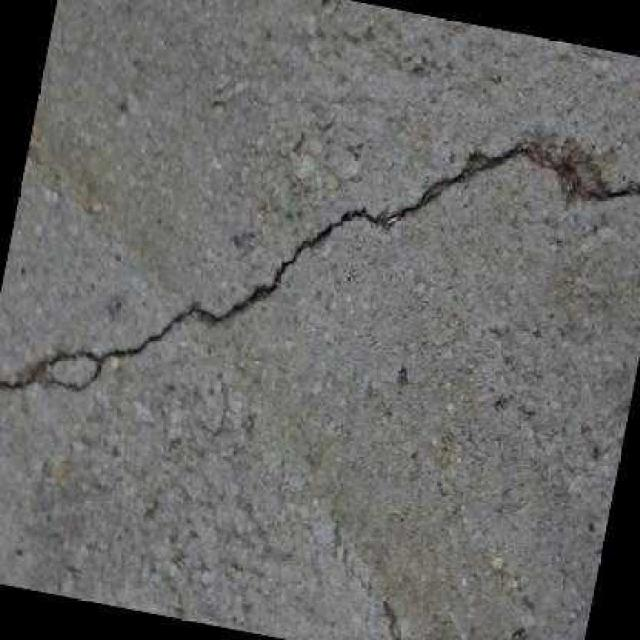D00: (0, 147, 640, 393)
